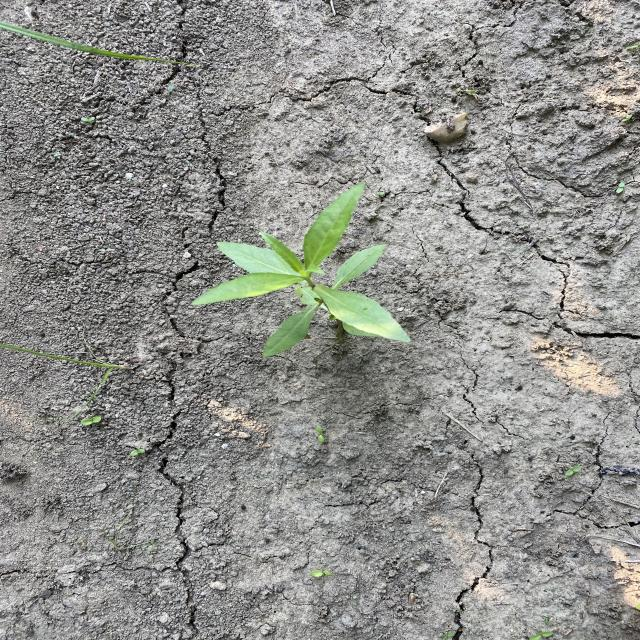Eclipta: (188, 180, 414, 358)
